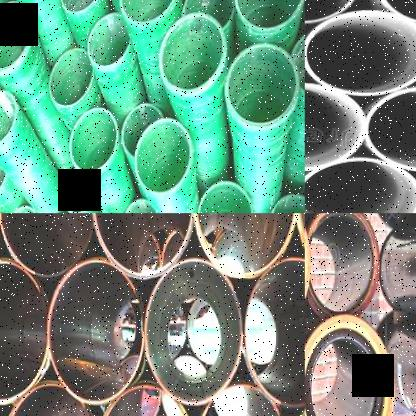pipe: (144, 258, 242, 404), (48, 260, 146, 404), (305, 11, 416, 96), (305, 314, 395, 416), (244, 258, 305, 406), (307, 213, 380, 320), (192, 213, 298, 278), (0, 260, 48, 403), (92, 213, 194, 278), (225, 43, 299, 126), (0, 213, 94, 278), (305, 158, 416, 213), (304, 82, 366, 171), (160, 12, 226, 92), (365, 86, 416, 171), (135, 118, 191, 194), (69, 108, 119, 174), (97, 384, 194, 416), (1, 384, 98, 416), (195, 383, 289, 416), (49, 48, 93, 106), (87, 13, 130, 67), (121, 105, 163, 158), (235, 0, 305, 30), (0, 6, 31, 72), (197, 180, 253, 213), (118, 0, 180, 25), (182, 0, 235, 29), (63, 167, 95, 213), (305, 0, 359, 24), (289, 30, 305, 98), (376, 0, 416, 27), (0, 90, 16, 147), (270, 193, 305, 213), (122, 198, 160, 213), (60, 0, 103, 12), (0, 153, 6, 198)
